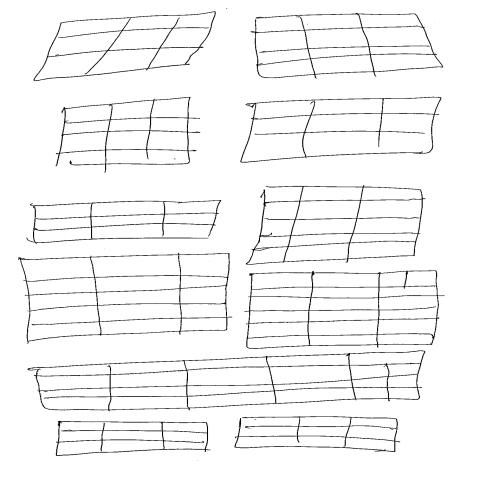Image: (31, 348, 427, 414), (18, 252, 230, 343), (246, 269, 440, 350), (239, 184, 426, 266), (238, 95, 442, 165), (28, 9, 218, 83), (251, 12, 445, 80), (53, 95, 194, 169), (28, 197, 222, 245), (53, 420, 211, 458), (231, 415, 400, 450)
